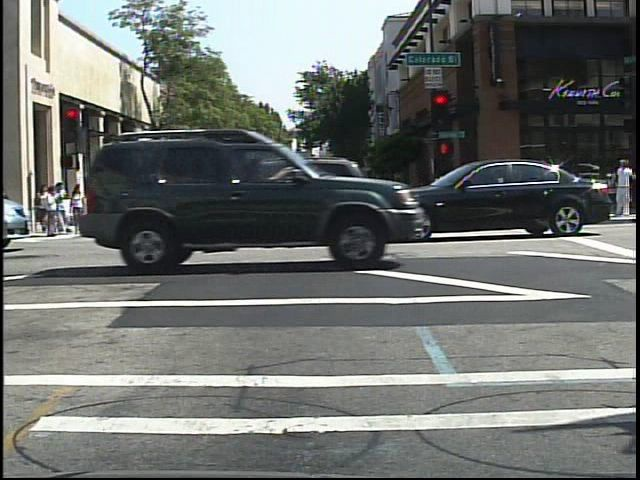person: (614, 156, 637, 221), (164, 180, 182, 221)
